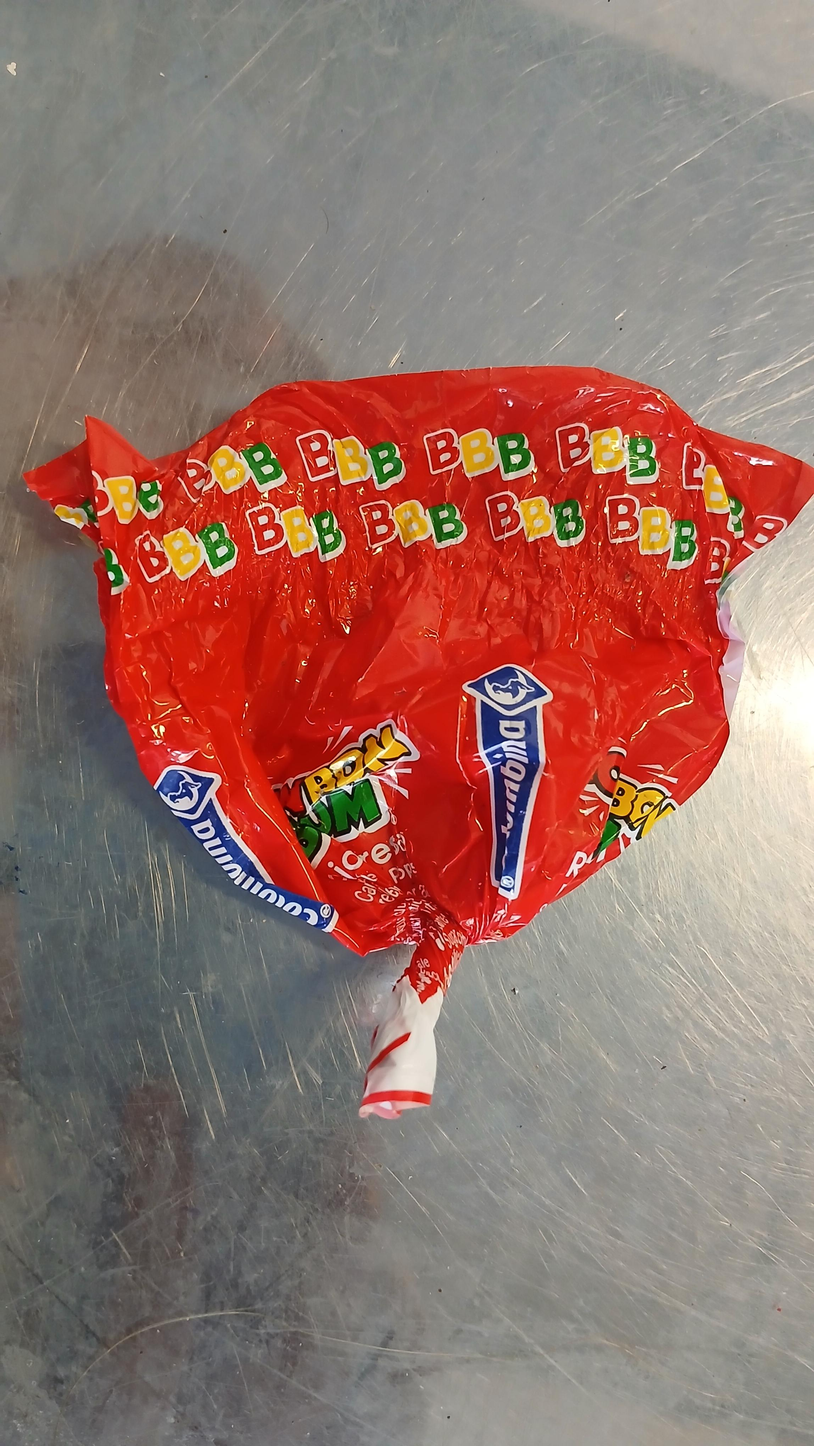Ordinario: (16, 365, 814, 1121)
